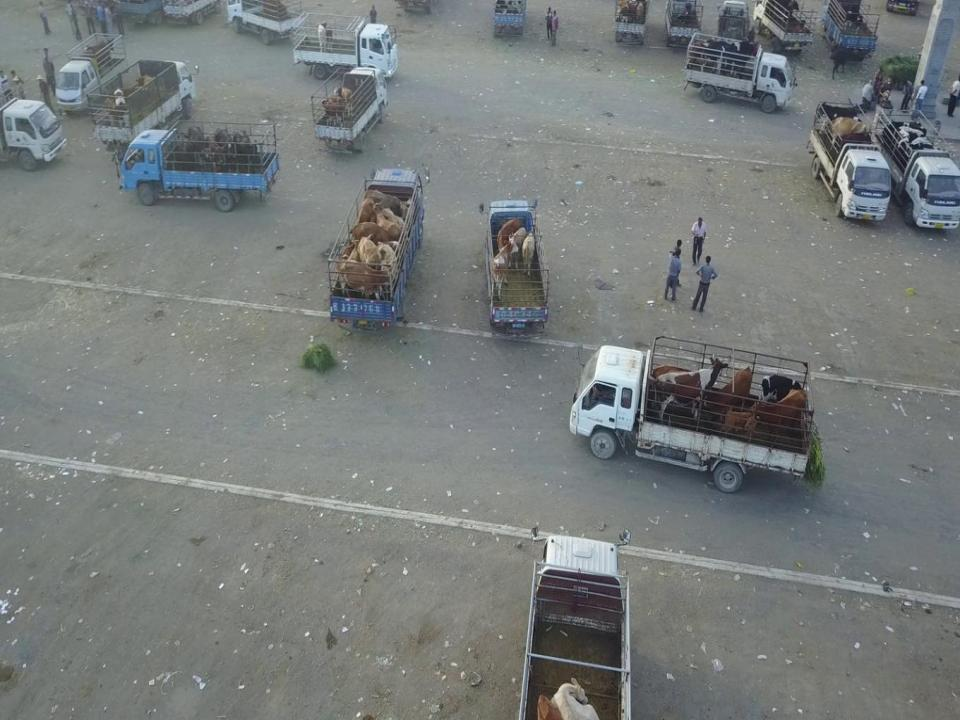truck: (570, 335, 814, 495), (516, 526, 633, 720), (324, 166, 428, 330), (122, 120, 281, 212), (869, 110, 960, 231), (475, 195, 549, 338), (808, 100, 892, 223), (88, 59, 198, 146), (292, 14, 400, 81), (309, 65, 390, 154), (60, 36, 128, 113), (0, 100, 67, 172), (819, 1, 878, 62), (225, 0, 304, 44), (753, 1, 816, 53), (663, 1, 704, 48), (716, 2, 754, 46), (614, 0, 647, 47), (166, 1, 222, 25), (491, 0, 527, 37), (121, 1, 173, 24)
